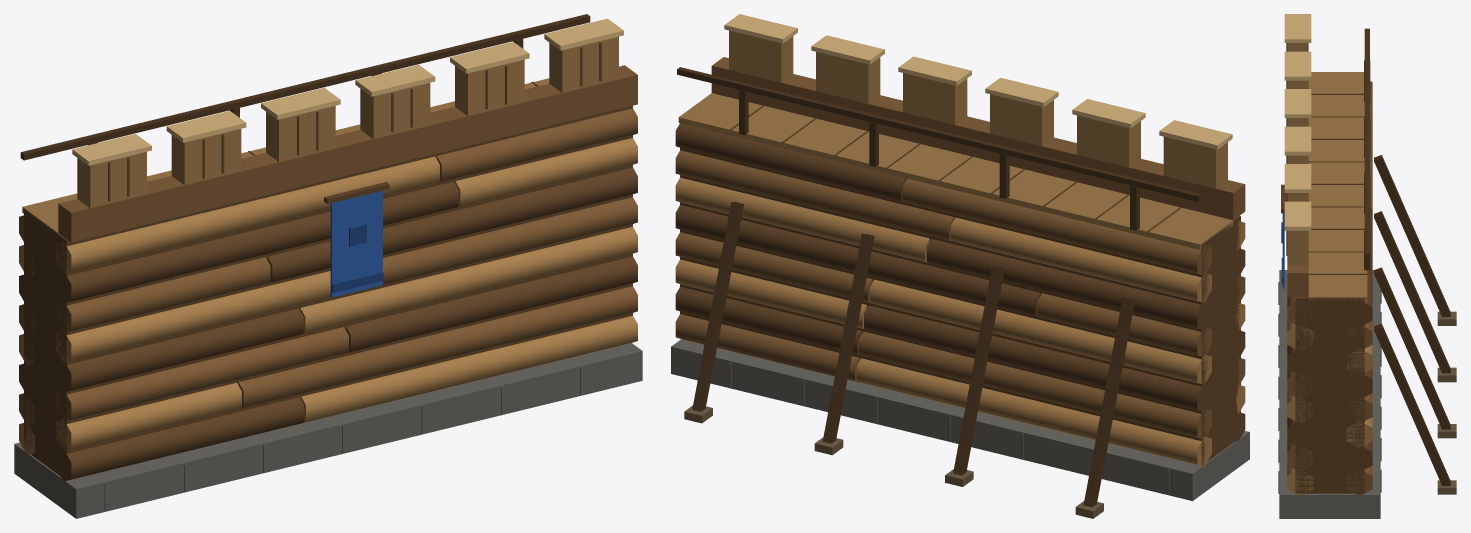
Rendered from timber-wall-segment.glb.
3 renders of one model, left to right at view 1: azimuth 30°, elevation 25°; view 2: azimuth 150°, elevation 25°; view 3: azimuth 270°, elevation 25°, orthographic. The views are drawn at different scales.
Parts seen in each view (by area): view 1: timber-wall-segment; view 2: timber-wall-segment; view 3: timber-wall-segment.
Boxes of the visible parts, box(x1,y1,x2,y2) form: timber-wall-segment: box(14, 14, 642, 518); timber-wall-segment: box(671, 14, 1249, 518); timber-wall-segment: box(1278, 14, 1456, 518).
Size of the model in its own units: 10 by 5.93 by 3.35.
Materials: 1 (1 with a texture image).
